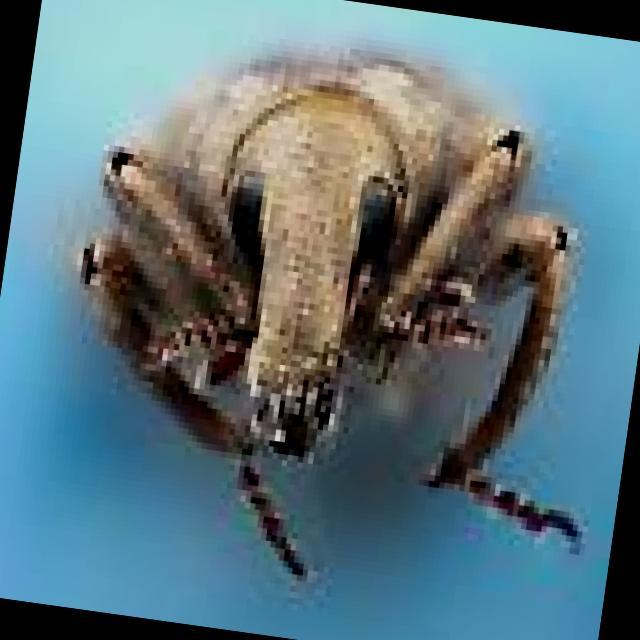ricebug: (81, 49, 580, 576)
